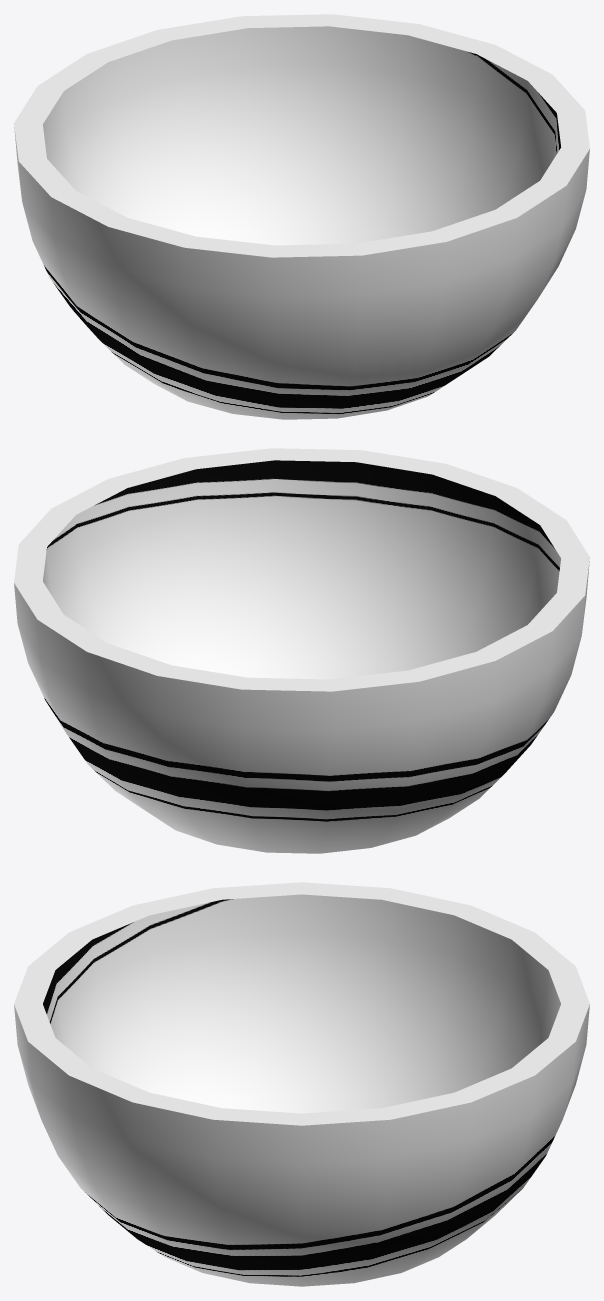
The model's file is BowlOBJ.obj.
3 renders of one model, top to bottom at view 1: azimuth 30°, elevation 25°; view 2: azimuth 150°, elevation 25°; view 3: azimuth 270°, elevation 25°, orthographic.
Parts seen in each view (by area): view 1: pSphere3; view 2: pSphere3; view 3: pSphere3.
Boxes of the visible parts, x1,y1,x2,y2 form: pSphere3: [14, 14, 589, 419]; pSphere3: [14, 448, 589, 853]; pSphere3: [14, 882, 589, 1286].
Size of the model in its own units: 2 by 0.809 by 2.
Materials: 1 (1 with a texture image).
